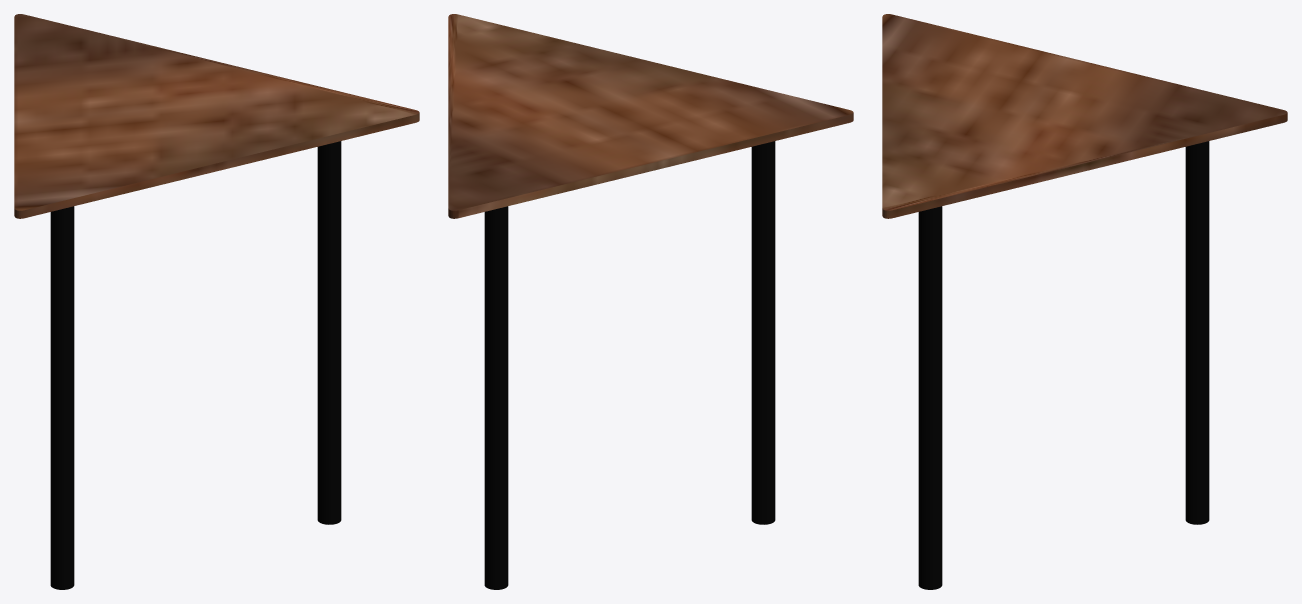
The model's file is triangle_new.fbx.
3 views of the same model, side by side, from view 1: azimuth 30°, elevation 25°; view 2: azimuth 150°, elevation 25°; view 3: azimuth 270°, elevation 25° (orthographic).
Parts seen in each view (by area): view 1: board, leg3, leg2; view 2: board, leg1, leg3; view 3: board, leg2, leg1.
Part boxes in pixels (x1=…): board: x1=14, y1=14, x2=419, y2=218; leg3: x1=50, y1=206, x2=74, y2=589; leg2: x1=317, y1=141, x2=341, y2=524; board: x1=448, y1=14, x2=853, y2=218; leg1: x1=484, y1=206, x2=508, y2=589; leg3: x1=751, y1=141, x2=775, y2=524; board: x1=882, y1=14, x2=1287, y2=218; leg2: x1=918, y1=206, x2=942, y2=589; leg1: x1=1185, y1=141, x2=1209, y2=524.
Size of the model in its own units: 785 by 758 by 683.
